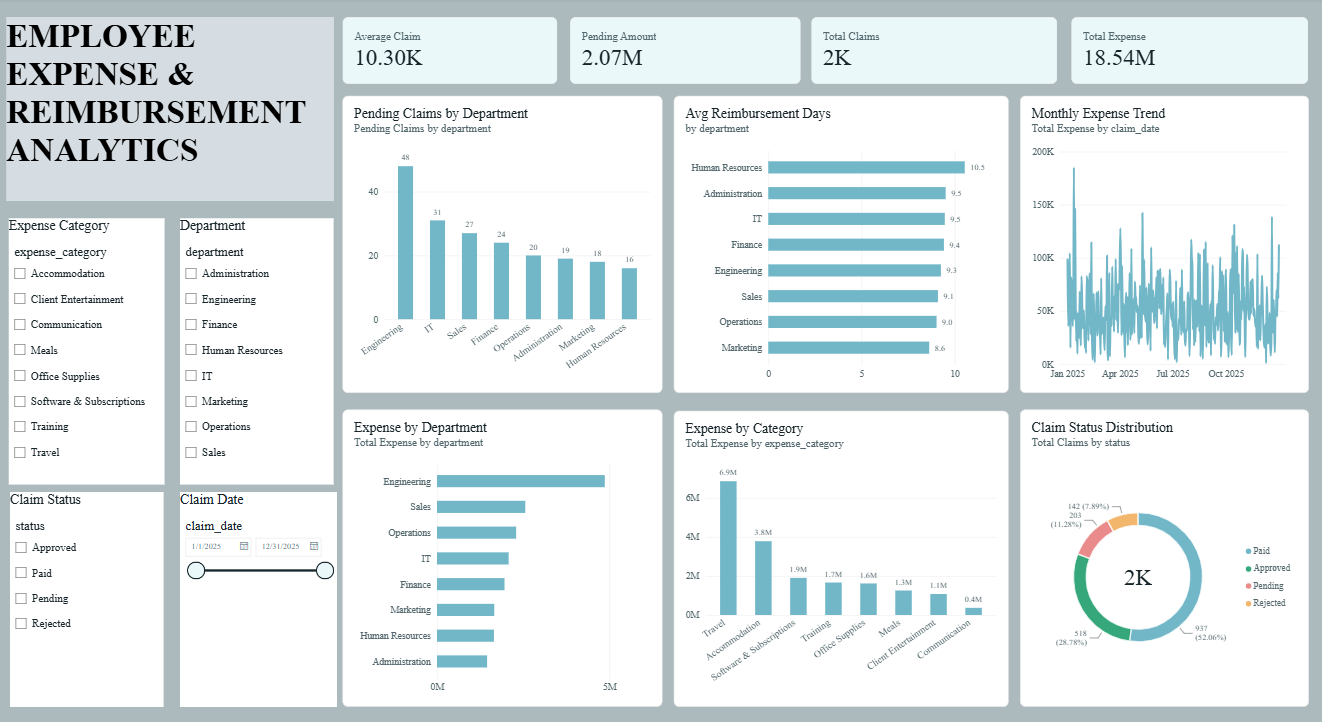

What the dashboard file says about the page in this screenshot:
{"tool":"powerbi","page":{"name":"Page 1","canvas":[1920,1080],"ordinal":0},"visuals":[{"type":"cardVisual","fields":{"Data":["public departments.Total Expense"]},"box":[1550.9,29,343.8,97.7],"z":0},{"type":"cardVisual","fields":{"Data":["public departments.Total Claims"]},"box":[1174.5,29,356.5,97.7],"z":1000},{"type":"cardVisual","fields":{"Data":["public departments.Average Claim"]},"box":[495.8,29,311.3,97.7],"z":2000},{"type":"cardVisual","fields":{"Data":["public departments.Pending Amount"]},"box":[825.2,29,334.8,97.7],"z":3000},{"type":"clusteredBarChart","title":"Expense by Department","fields":{"Category":["public departments.department"],"Y":["public departments.Total Expense"]},"box":[495.8,617.1,463.3,430.7],"z":4000},{"type":"clusteredColumnChart","title":"Expense by Category","fields":{"Category":["public expense_categories.expense_category"],"Y":["public departments.Total Expense"]},"box":[975.4,617.1,485,428.9],"z":5000},{"type":"lineChart","title":"Monthly Expense Trend","fields":{"Category":["public expense_claims.claim_date"],"Y":["public departments.Total Expense"]},"box":[1476.7,143,418,430.7],"z":6000},{"type":"clusteredBarChart","fields":{"Category":["public departments.department"],"Y":["public departments.Avg Reimbursement Days"]},"box":[975.4,143,485,430.7],"z":7000},{"type":"clusteredColumnChart","title":"Pending Claims by Department","fields":{"Category":["public departments.department"],"Y":["public departments.Pending Claims"]},"box":[495.8,155.6,463.3,430.7],"z":8000},{"type":"donutChart","title":"Claim Status Distribution","fields":{"Category":["public expense_claims.status"],"Y":["public departments.Total Claims"]},"box":[1476.7,615.3,418,430.7],"z":9000},{"type":"slicer","title":"Department","fields":{"Values":["public departments.department"]},"box":[260.6,333,222.2,385.6],"z":10000},{"type":"slicer","title":"Expense Category","fields":{"Values":["public expense_categories.expense_category"]},"box":[12.7,333,225.6,385.6],"z":11000},{"type":"slicer","title":"Claim Status","fields":{"Values":["public expense_claims.status"]},"box":[12.7,736.5,222.6,311.3],"z":12000},{"type":"slicer","title":"Claim Date","fields":{"Values":["public expense_claims.claim_date"]},"box":[260.6,736.5,226.2,311.3],"z":13000},{"type":"textbox","title":"EMPLOYEE EXPENSE & REIMBURSEMENT ANALYTICS","box":[9,29,474.1,266],"z":14000}]}

Visuals, with their boxes in screenshot pixels (x1, y1, x2, y2), scaled from the page's 1920x1080 canvas onto the 1322x722 screenshot:
cardVisual - public departments.Total Expense: {"left": 1068, "top": 19, "right": 1305, "bottom": 85}
cardVisual - public departments.Total Claims: {"left": 809, "top": 19, "right": 1054, "bottom": 85}
cardVisual - public departments.Average Claim: {"left": 341, "top": 19, "right": 556, "bottom": 85}
cardVisual - public departments.Pending Amount: {"left": 568, "top": 19, "right": 799, "bottom": 85}
"Expense by Department" clusteredBarChart: {"left": 341, "top": 413, "right": 660, "bottom": 700}
"Expense by Category" clusteredColumnChart: {"left": 672, "top": 413, "right": 1006, "bottom": 699}
"Monthly Expense Trend" lineChart: {"left": 1017, "top": 96, "right": 1305, "bottom": 384}
clusteredBarChart - public departments.department x public departments.Avg Reimbursement Days: {"left": 672, "top": 96, "right": 1006, "bottom": 384}
"Pending Claims by Department" clusteredColumnChart: {"left": 341, "top": 104, "right": 660, "bottom": 392}
"Claim Status Distribution" donutChart: {"left": 1017, "top": 411, "right": 1305, "bottom": 699}
"Department" slicer: {"left": 179, "top": 223, "right": 332, "bottom": 480}
"Expense Category" slicer: {"left": 9, "top": 223, "right": 164, "bottom": 480}
"Claim Status" slicer: {"left": 9, "top": 492, "right": 162, "bottom": 700}
"Claim Date" slicer: {"left": 179, "top": 492, "right": 335, "bottom": 700}
"EMPLOYEE EXPENSE & REIMBURSEMENT ANALYTICS" textbox: {"left": 6, "top": 19, "right": 333, "bottom": 197}
